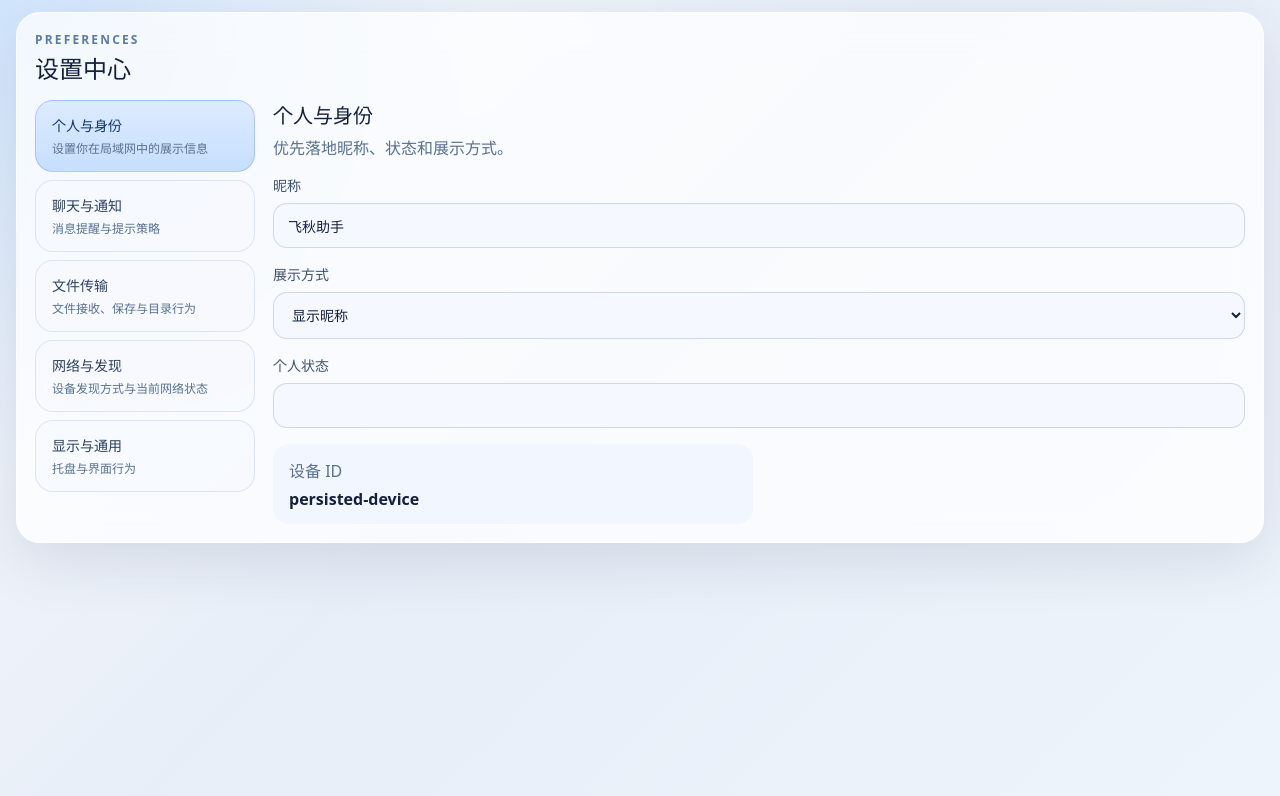
Test case: shows refresh history summary legend for status colors
Click the button "网络与发现 设备发现方式与当前网络状态" at {"x": 145, "y": 376}, box [35, 340, 255, 412]
(page scrolled)
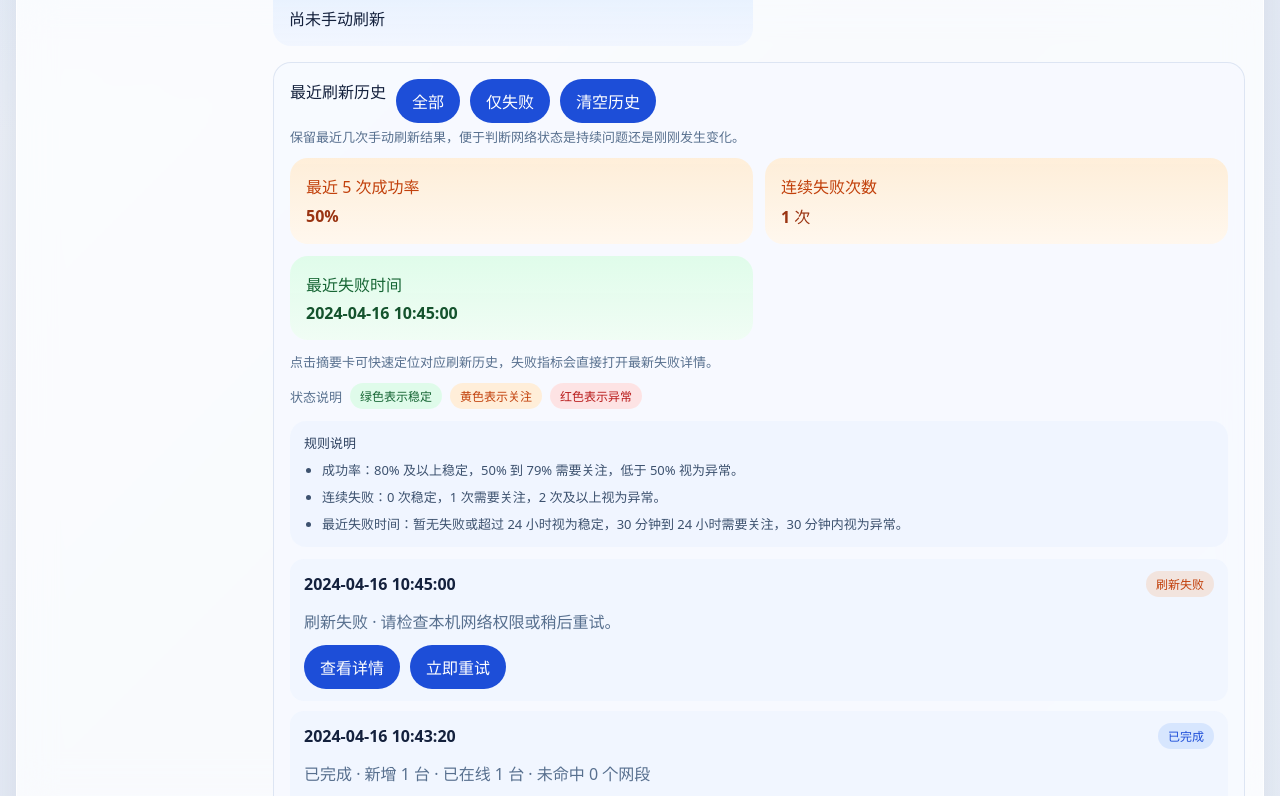
Expected: the text "状态说明" is shown, [290, 387, 342, 406]
Expected: the text "绿色表示稳定" is shown, [350, 383, 442, 409]
Expected: the text "黄色表示关注" is shown, [450, 383, 542, 409]
